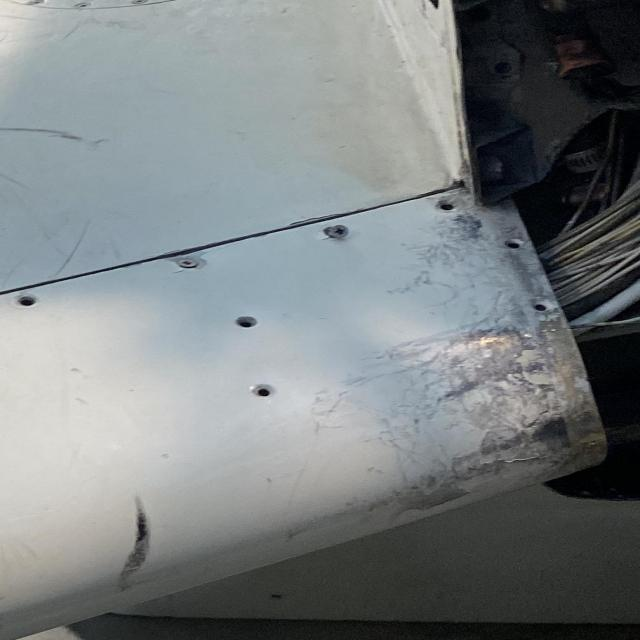Missing-head: (532, 301, 556, 315), (252, 384, 275, 398), (237, 316, 259, 329), (16, 294, 38, 307), (439, 199, 458, 211), (507, 239, 524, 250)
Scratch: (347, 326, 603, 515)
